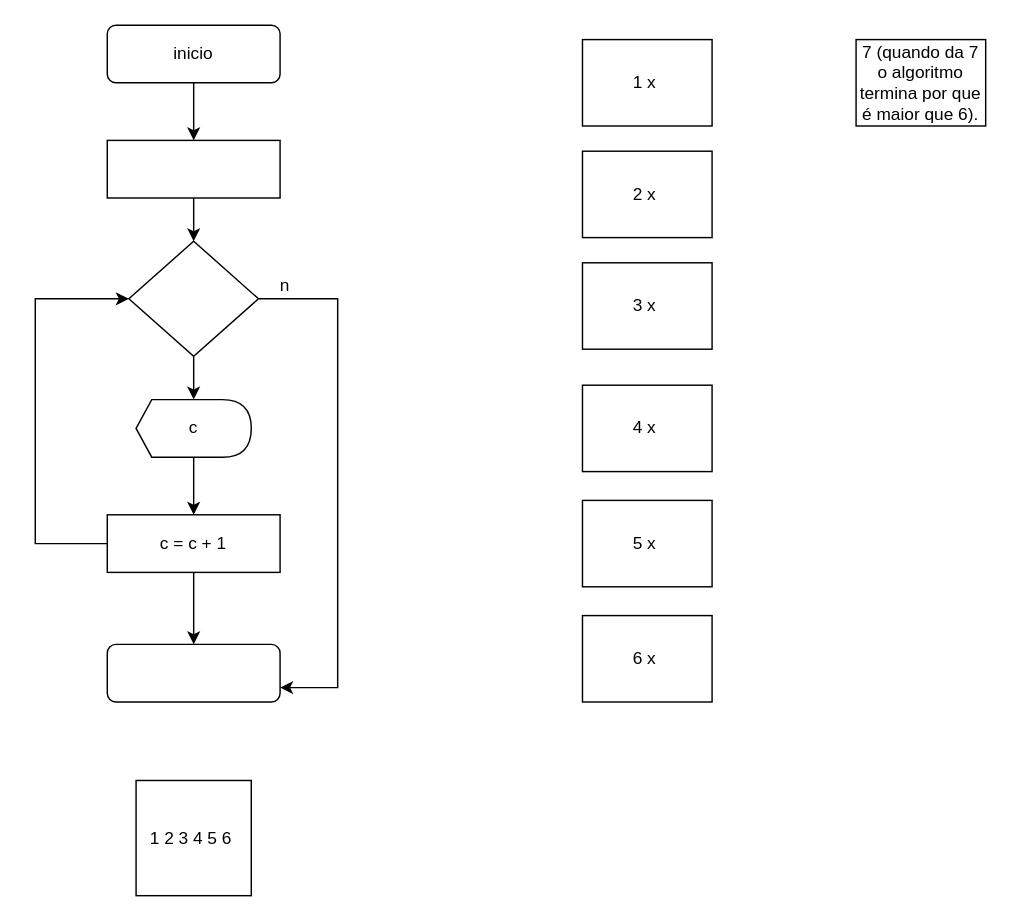
This 1011x922 diagram has some shape labels left out. Here are the shapes that lost their labels. From the top down, the centre of each, then its label:
At point 193,168: "c = 1".
At point 192,298: "c <= 6".
At point 193,672: "Fim".
